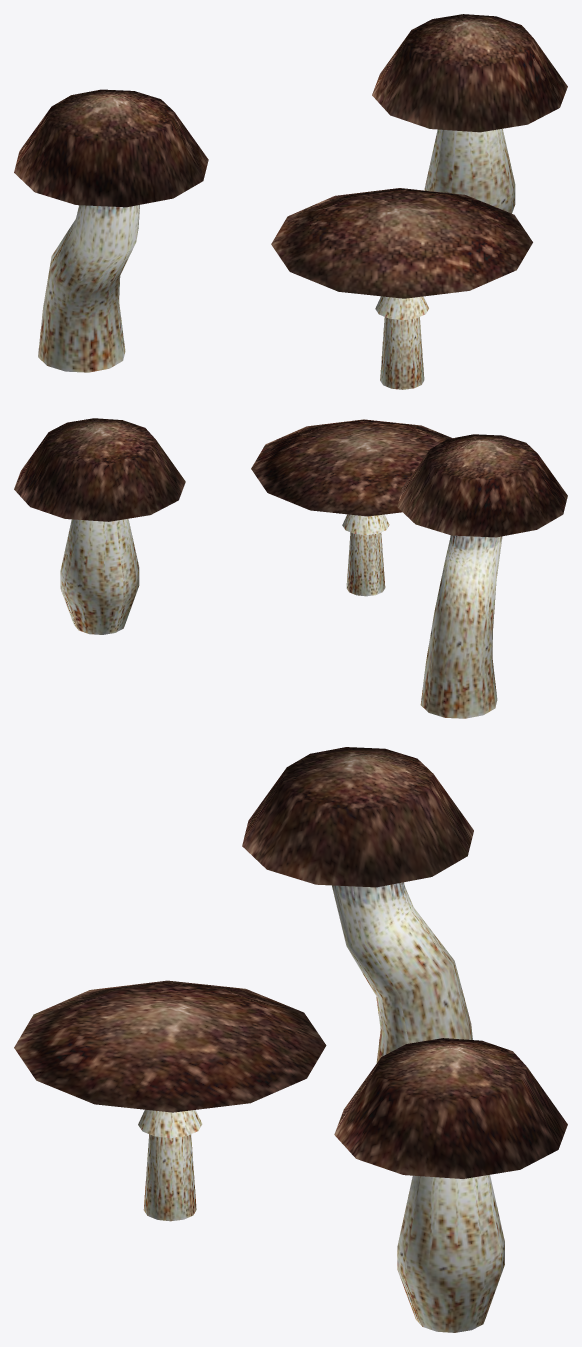
File: Shroom2-2.gltf
The picture shows the model from 3 angles, top to bottom: view 1: azimuth 30°, elevation 25°; view 2: azimuth 150°, elevation 25°; view 3: azimuth 270°, elevation 25°; orthographic projection. The views are drawn at different scales.
Visible parts, largest first — view 1: Shroom2-2; view 2: Shroom2-2; view 3: Shroom2-2.
Boxes of the visible parts, x1,y1,x2,y2 form: Shroom2-2: (14,14,567,389); Shroom2-2: (14,418,567,718); Shroom2-2: (14,747,567,1332).
Bounding box in the file's own units: 2.64 × 1.23 × 1.87.
1 material, 1 textured.
